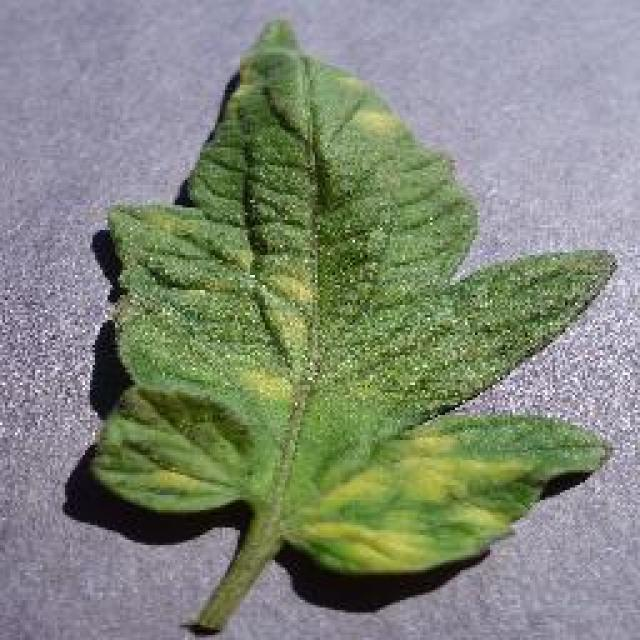Tomato mold leaf: (86, 11, 614, 576)
